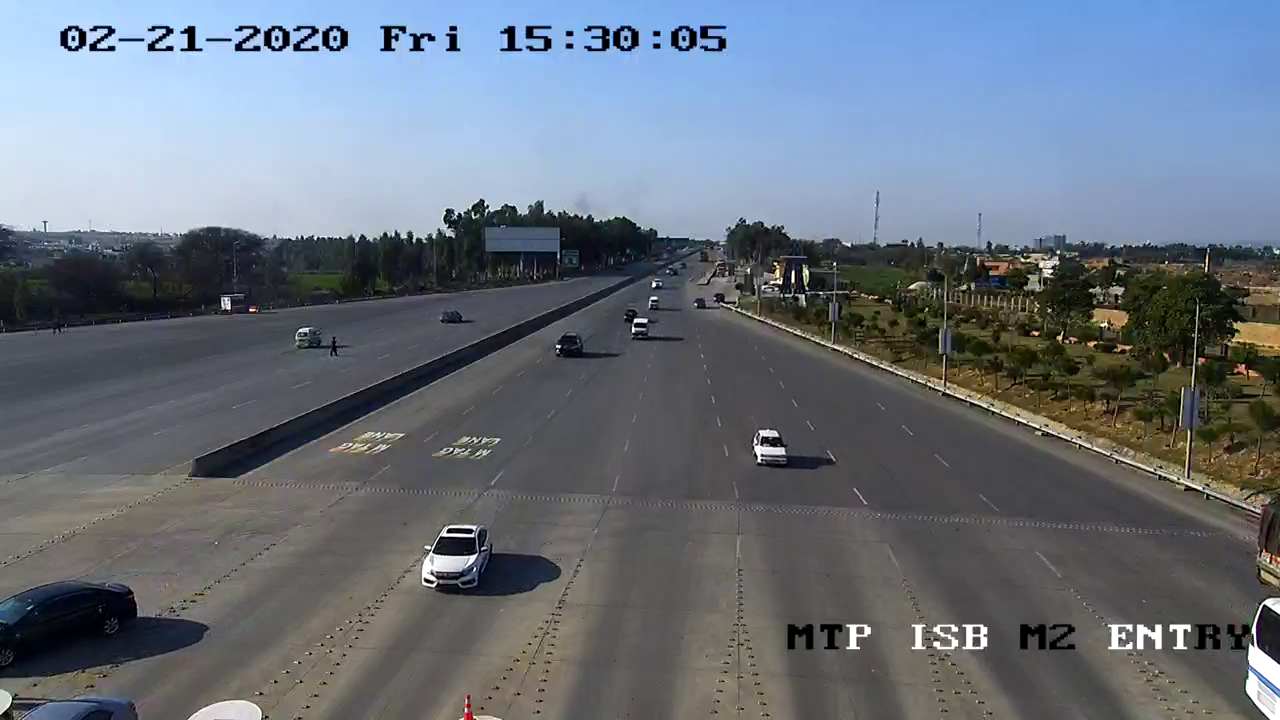f1: (412, 511, 500, 603), (742, 417, 799, 478)
